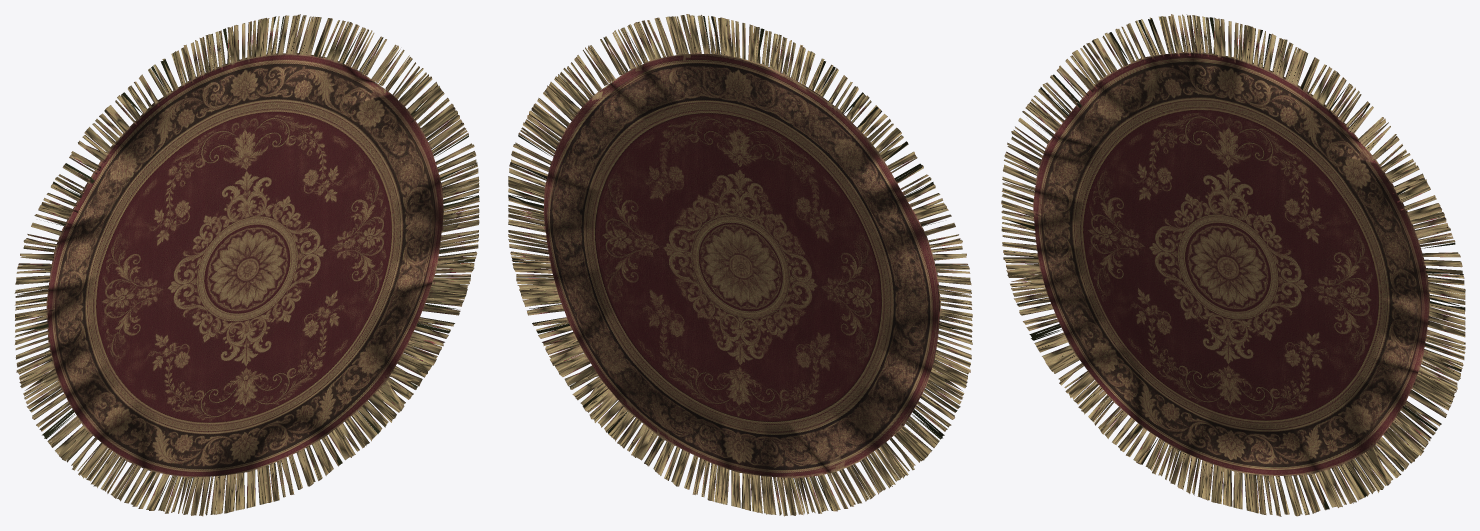
Rendered from rrr_prop_rug-circle_v1.glb.
The picture shows the model from 3 angles, left to right: view 1: azimuth 30°, elevation 25°; view 2: azimuth 150°, elevation 25°; view 3: azimuth 330°, elevation 25°; orthographic projection.
Visible parts, largest first — view 1: Mesh_0.001; view 2: Mesh_0.001; view 3: Mesh_0.001.
Boxes of the visible parts, x1=… form: Mesh_0.001: x1=14, y1=14, x2=479, y2=516; Mesh_0.001: x1=508, y1=14, x2=972, y2=516; Mesh_0.001: x1=1001, y1=14, x2=1465, y2=516.
Size of the model in its own units: 2 by 2 by 0.0411.
1 material, 1 textured.
